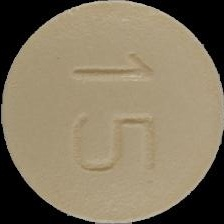63739-570: (0, 0, 224, 224)
